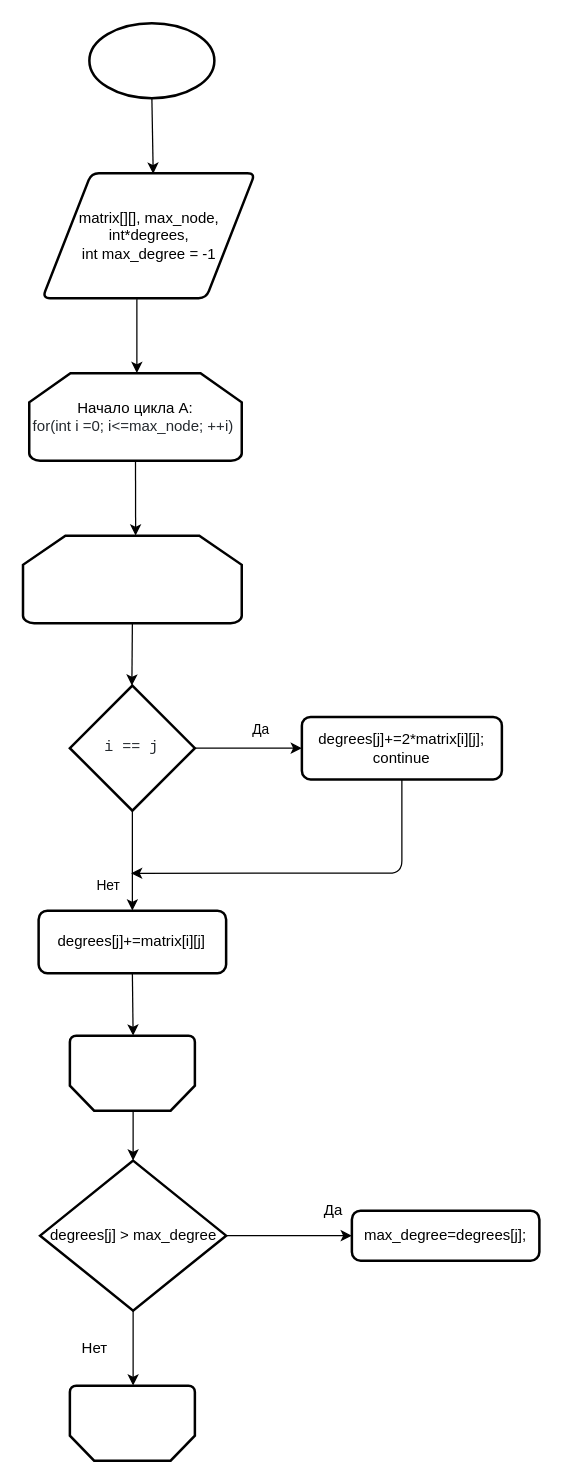
Image size: 563x1483. Some labels were removed from this diagram. Here are the shapes that lost their labels. From the top down, the centre of each, then its label:
(151,60): Начало
(131,579): Начало цикла Б: for ( int i = 1 ; i<=max_node; ++i)
(132,1072): Конец цикла Б
(132,1422): Конец цикла А
